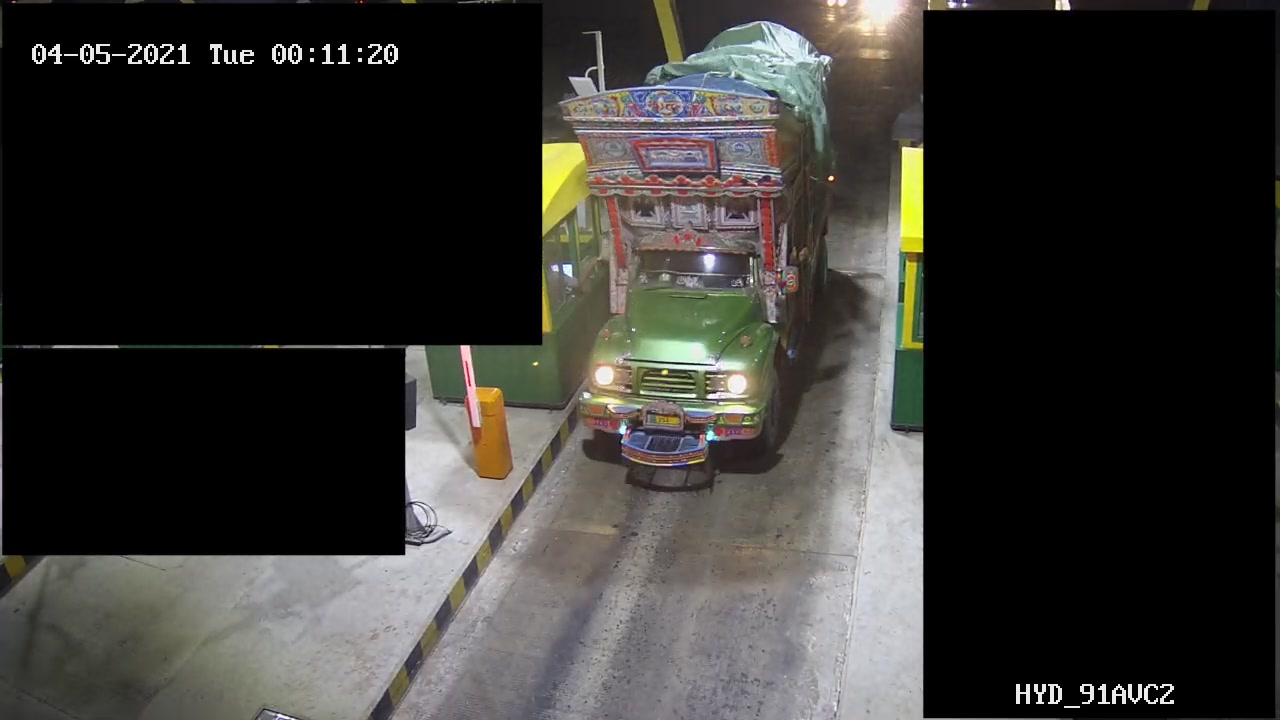F5: (571, 13, 850, 495)
